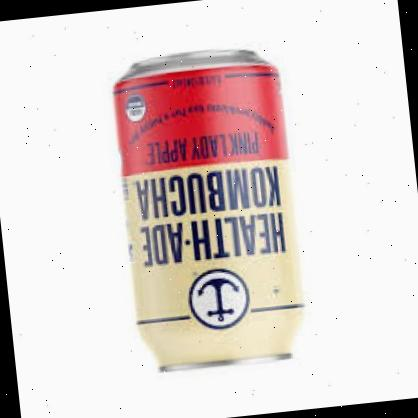can: (107, 37, 314, 379)
